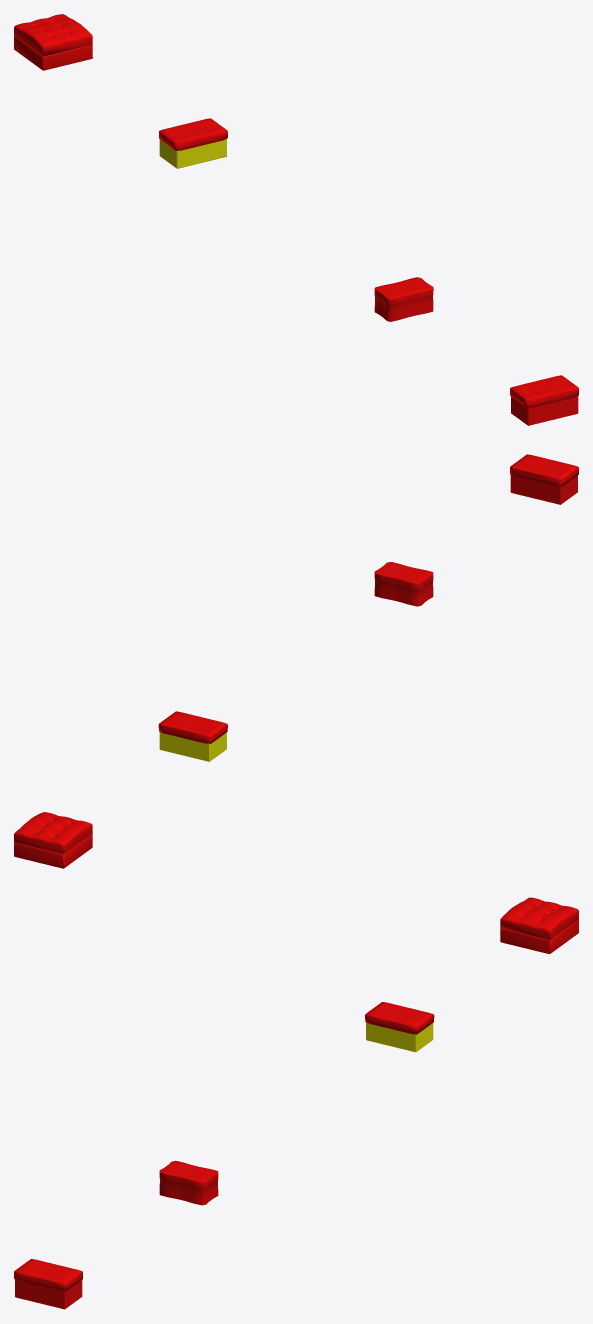
The model's file is ottomans_grp.fbx.
The picture shows the model from 3 angles, top to bottom: view 1: azimuth 30°, elevation 25°; view 2: azimuth 150°, elevation 25°; view 3: azimuth 330°, elevation 25°; orthographic projection.
Visible parts, largest first — view 1: ottoman_210, ottoman_203, ottoman_208, ottoman_205; view 2: ottoman_210, ottoman_208, ottoman_203, ottoman_205; view 3: ottoman_210, ottoman_208, ottoman_203, ottoman_205.
Boxes of the visible parts, <box> form: ottoman_210: <box>14,14,92,70</box>; ottoman_203: <box>510,375,578,425</box>; ottoman_208: <box>159,118,227,168</box>; ottoman_205: <box>374,277,433,321</box>; ottoman_210: <box>14,812,92,868</box>; ottoman_208: <box>158,711,227,761</box>; ottoman_203: <box>510,454,578,504</box>; ottoman_205: <box>374,562,433,606</box>; ottoman_210: <box>500,897,578,953</box>; ottoman_208: <box>365,1002,434,1052</box>; ottoman_203: <box>14,1259,82,1309</box>; ottoman_205: <box>159,1160,218,1205</box>.
Size of the model in its own units: 85.81 by 43.51 by 1467.
